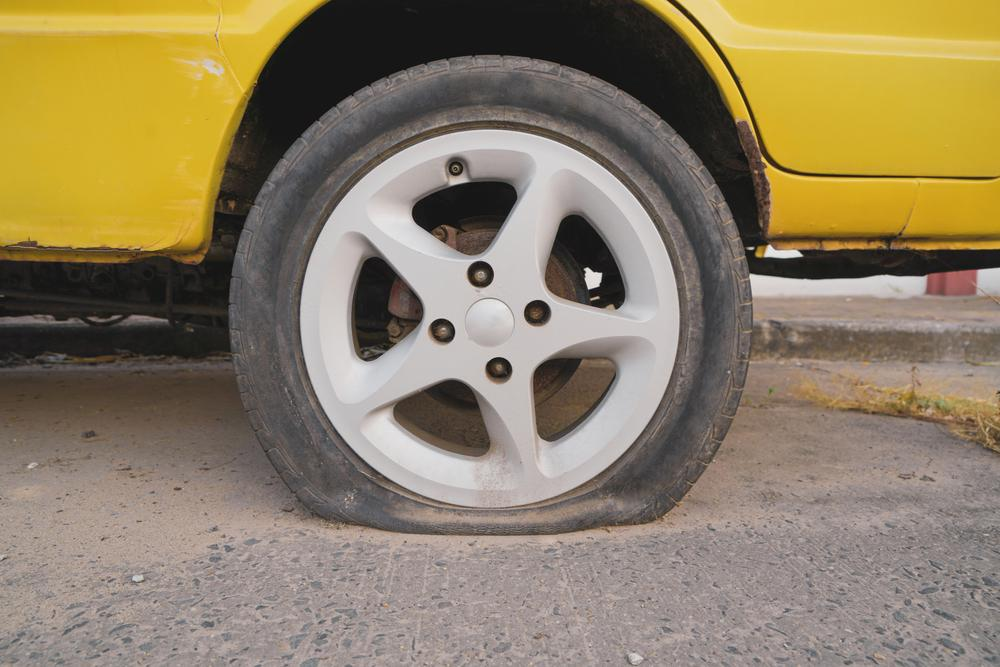tire flat: (224, 53, 753, 538)
